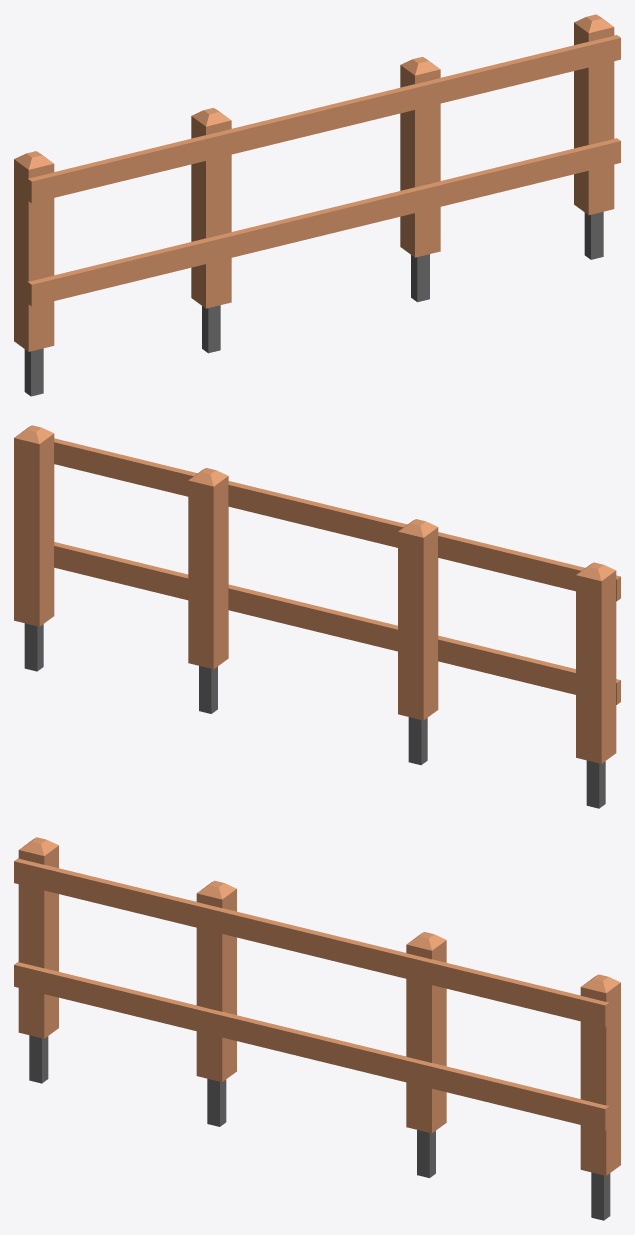
File: VisioSlideFence.fbx
3 renders of one model, top to bottom at view 1: azimuth 30°, elevation 25°; view 2: azimuth 150°, elevation 25°; view 3: azimuth 330°, elevation 25°, orthographic.
Visible parts, largest first — view 1: Cube.001; view 2: Cube.001; view 3: Cube.001.
Part boxes in pixels (x1,y1,x2,y2): Cube.001: (14, 14, 620, 396); Cube.001: (14, 425, 620, 808); Cube.001: (14, 837, 620, 1220).
Size of the model in its own units: 10.01 by 3.87 by 0.5467.
